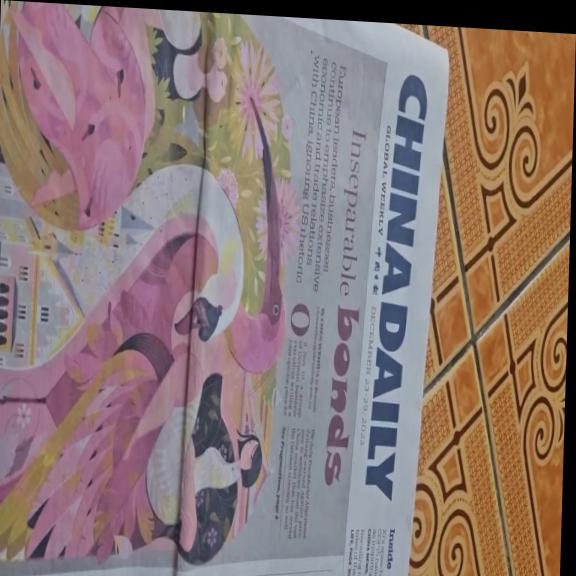Kertas: (0, 2, 452, 576)
